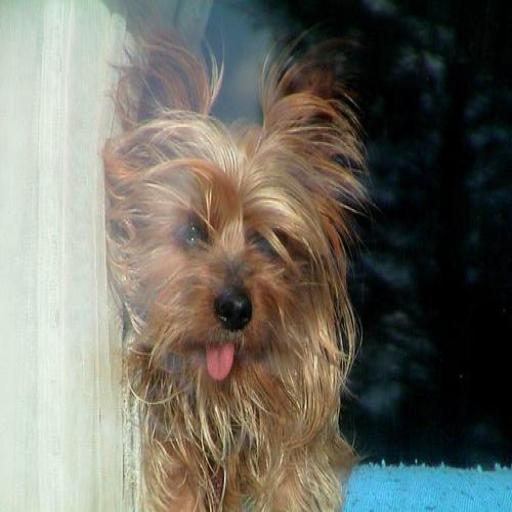dog_face: (116, 56, 348, 373)
